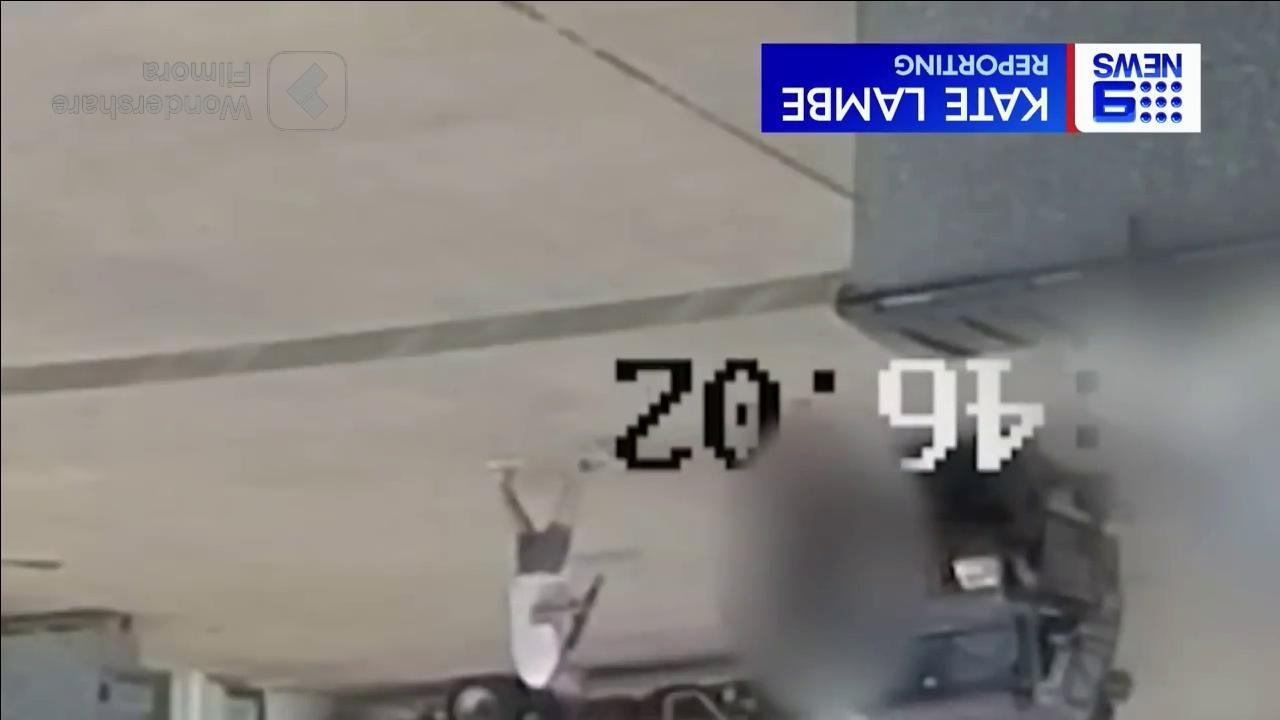gun: (556, 572, 610, 662)
